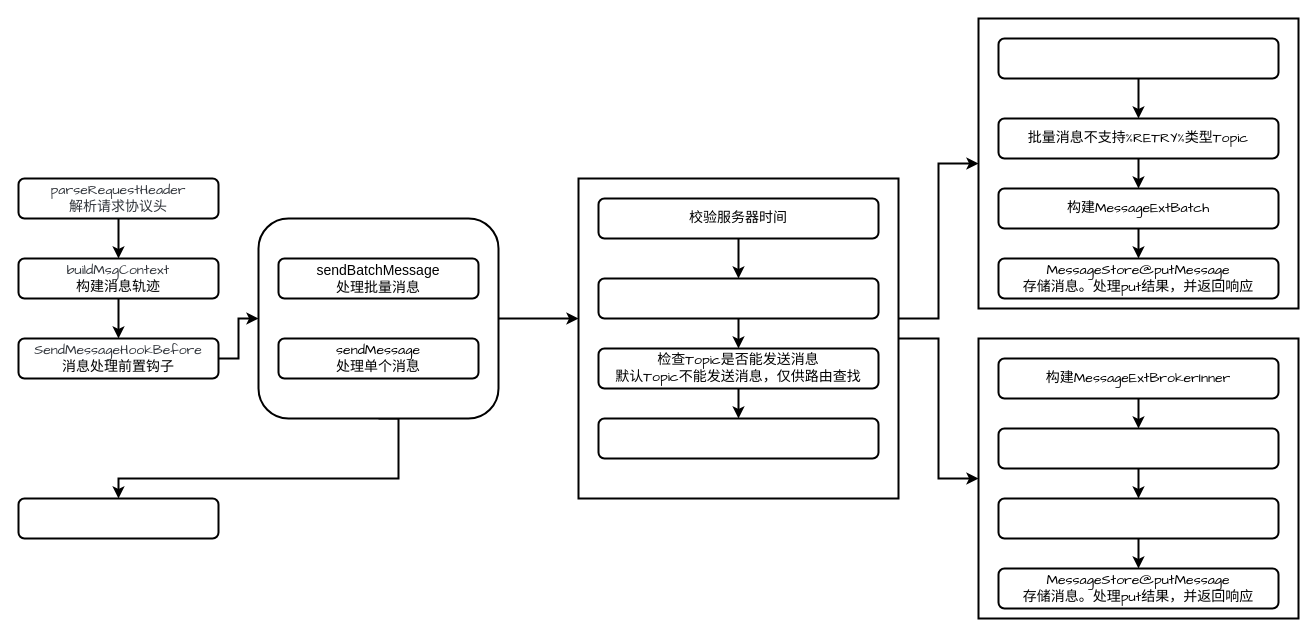
Some shapes in this 1316 by 636 pixel diagram are drawn without their labels. Each missing label, with the centre of its shape:
sendMessageHookAfter 处理消息后置钩子: the point at 118,518
判断是否有事务消息标识，有则存入prepare消息，否则直接putMessage: the point at 1138,518
处理重试或死信队列: the point at 1138,448
检查Broker是否有写权限: the point at 738,298
检查Topic长度是否有效: the point at 1138,58
检查队列ID与Broker匹配: the point at 738,438
